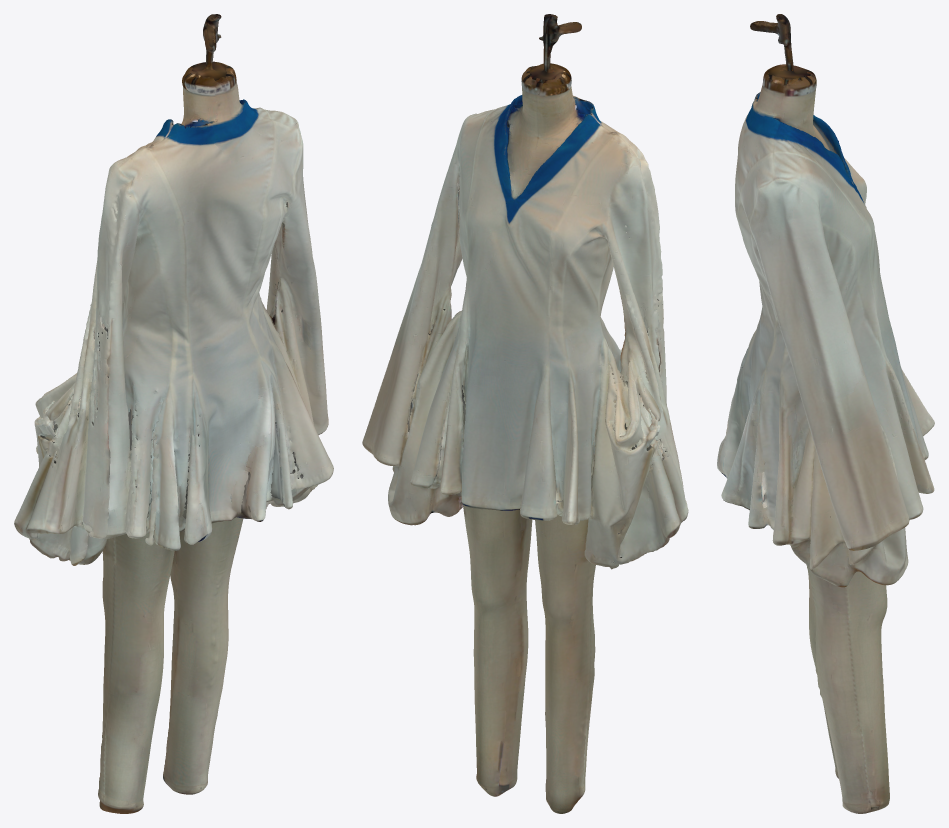
The model's file is outfit5.glb.
The picture shows the model from 3 angles, left to right: view 1: azimuth 30°, elevation 25°; view 2: azimuth 150°, elevation 25°; view 3: azimuth 270°, elevation 25°; orthographic projection. The views are drawn at different scales.
Parts seen in each view (by area): view 1: Object_2, Object_3, Object_4, Object_6, Object_5; view 2: Object_5, Object_4, Object_3, Object_6, Object_2; view 3: Object_4, Object_3, Object_2, Object_5, Object_6.
Boxes of the visible parts, bbox=[...] form: Object_2: bbox=[84, 16, 314, 550]; Object_3: bbox=[16, 14, 333, 652]; Object_4: bbox=[33, 65, 328, 812]; Object_6: bbox=[14, 205, 328, 809]; Object_5: bbox=[35, 307, 268, 813]; Object_5: bbox=[362, 200, 657, 813]; Object_4: bbox=[396, 79, 684, 801]; Object_3: bbox=[407, 14, 688, 524]; Object_6: bbox=[382, 125, 681, 794]; Object_2: bbox=[464, 16, 666, 405]; Object_4: bbox=[735, 71, 887, 813]; Object_3: bbox=[722, 14, 863, 622]; Object_2: bbox=[721, 21, 807, 529]; Object_5: bbox=[717, 176, 934, 813]; Object_6: bbox=[721, 120, 860, 812].
Size of the model in its own units: 666 by 1598 by 398.
Materials: 1 (1 with a texture image).
